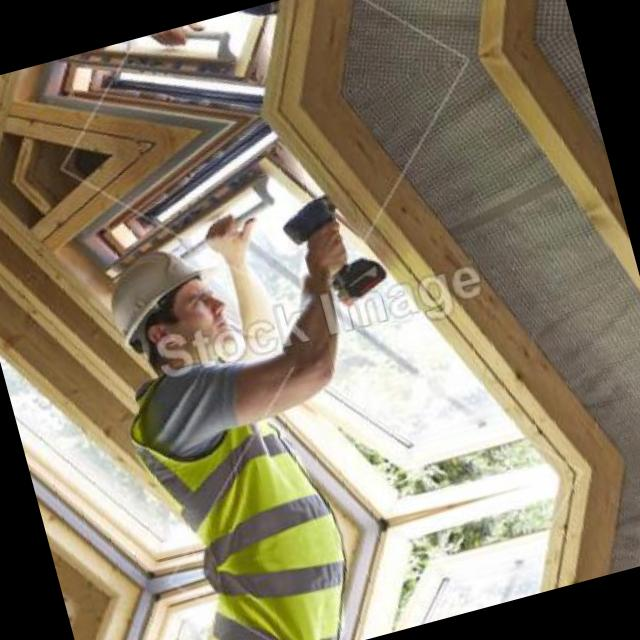helmet: (80, 212, 256, 398)
